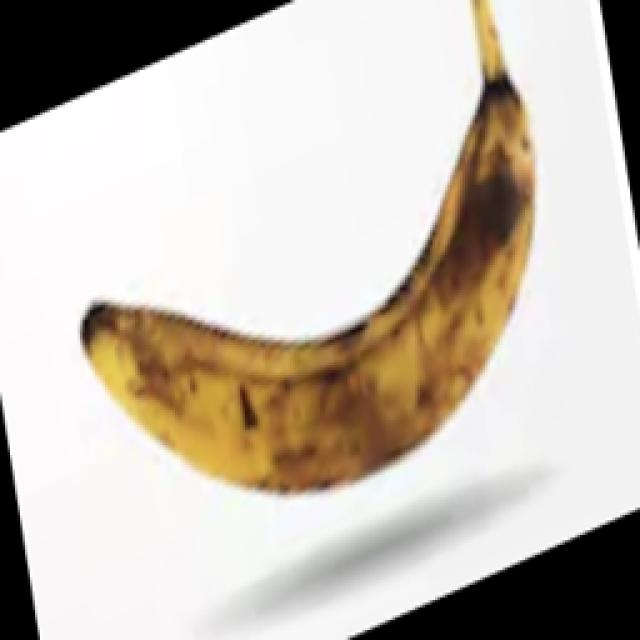Rotten_Banana: (0, 53, 575, 534)
